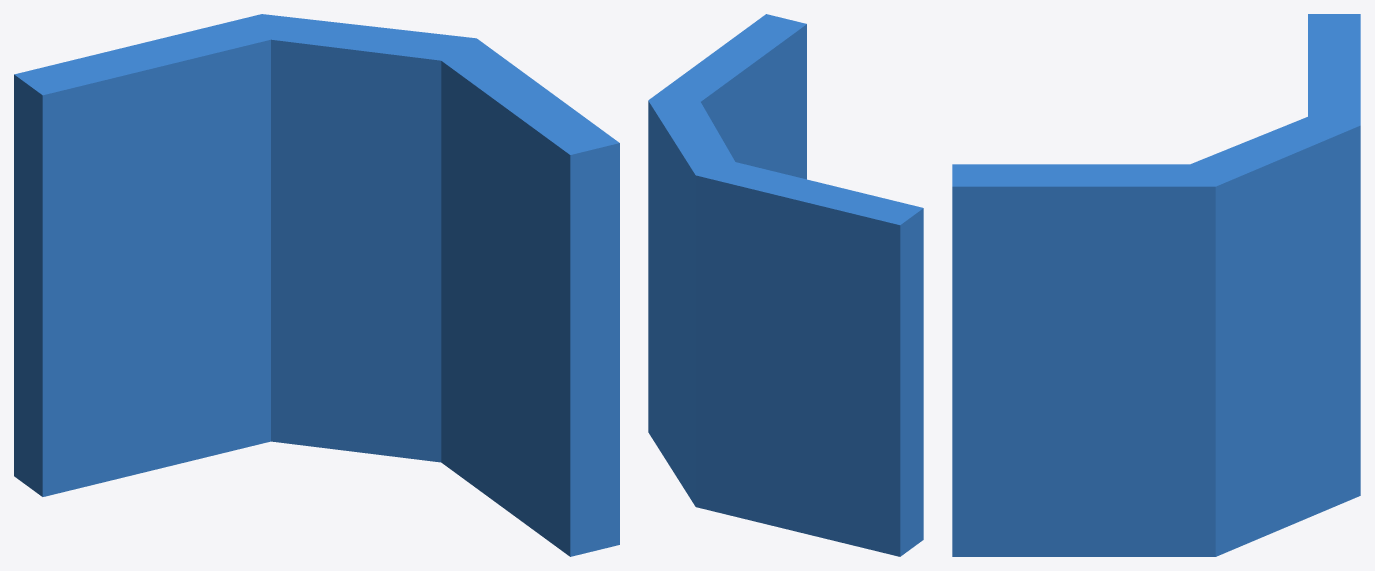
Rendered from Collision_Overhang_Plaster_Corner_Front.fbx.
3 renders of one model, left to right at view 1: azimuth 30°, elevation 25°; view 2: azimuth 150°, elevation 25°; view 3: azimuth 270°, elevation 25°, orthographic. The views are drawn at different scales.
Visible parts, largest first — view 1: UCX_Overhang_Plaster_Corner_Front_1; view 2: UCX_Overhang_Plaster_Corner_Front_1; view 3: UCX_Overhang_Plaster_Corner_Front_1.
Part boxes in pixels (x1,y1,x2,y2): UCX_Overhang_Plaster_Corner_Front_1: (14,14,619,556); UCX_Overhang_Plaster_Corner_Front_1: (648,14,923,556); UCX_Overhang_Plaster_Corner_Front_1: (952,14,1360,556).
Size of the model in its own units: 310 by 310 by 310.
